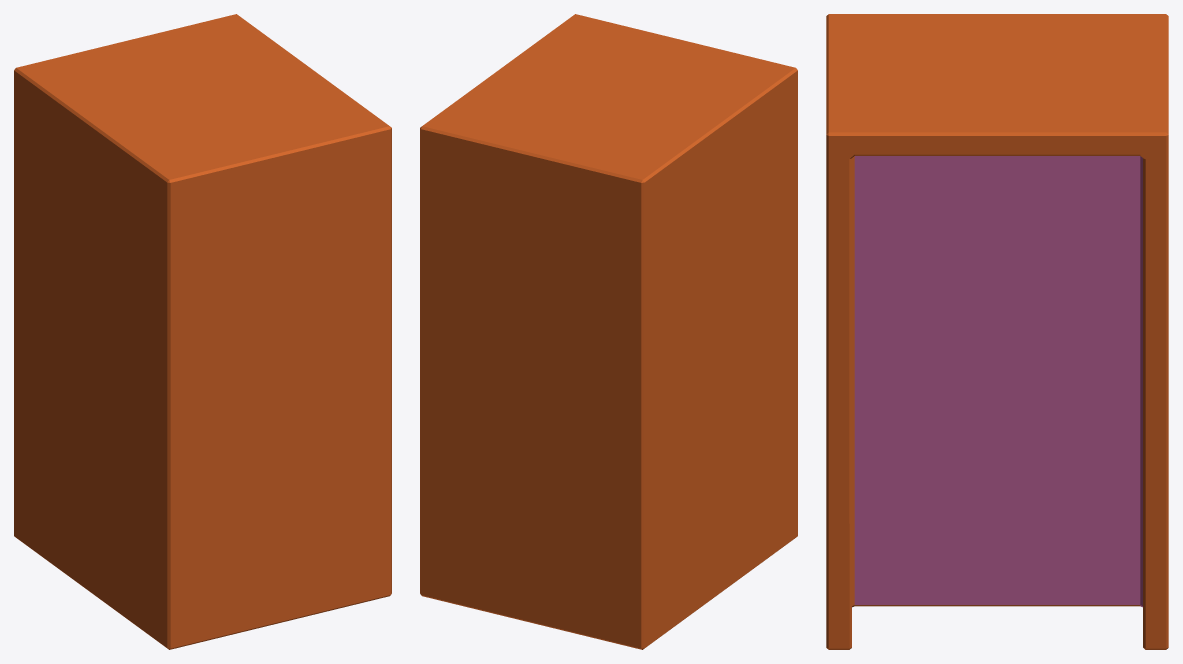
Rendered from Door_1.fbx.
The picture shows the model from 3 angles, left to right: view 1: azimuth 30°, elevation 25°; view 2: azimuth 150°, elevation 25°; view 3: azimuth 270°, elevation 25°; orthographic projection. The views are drawn at different scales.
Visible parts, largest first — view 1: Door_1; view 2: Door_1; view 3: Door_1.
Part boxes in pixels (x1,y1,x2,y2): Door_1: [14, 14, 391, 649]; Door_1: [420, 14, 797, 649]; Door_1: [826, 14, 1168, 649].
Size of the model in its own units: 27.66 by 55.31 by 33.19.
